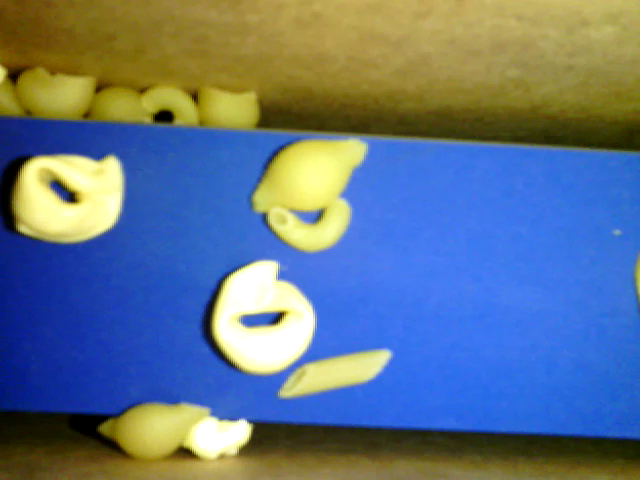elbow: (265, 196, 352, 252), (139, 86, 200, 125)
penne: (277, 348, 395, 400)
shell: (252, 134, 368, 213), (98, 401, 210, 460), (13, 67, 95, 118), (197, 84, 259, 128), (87, 82, 153, 123)
tortellini: (209, 259, 315, 375), (10, 151, 124, 244)
